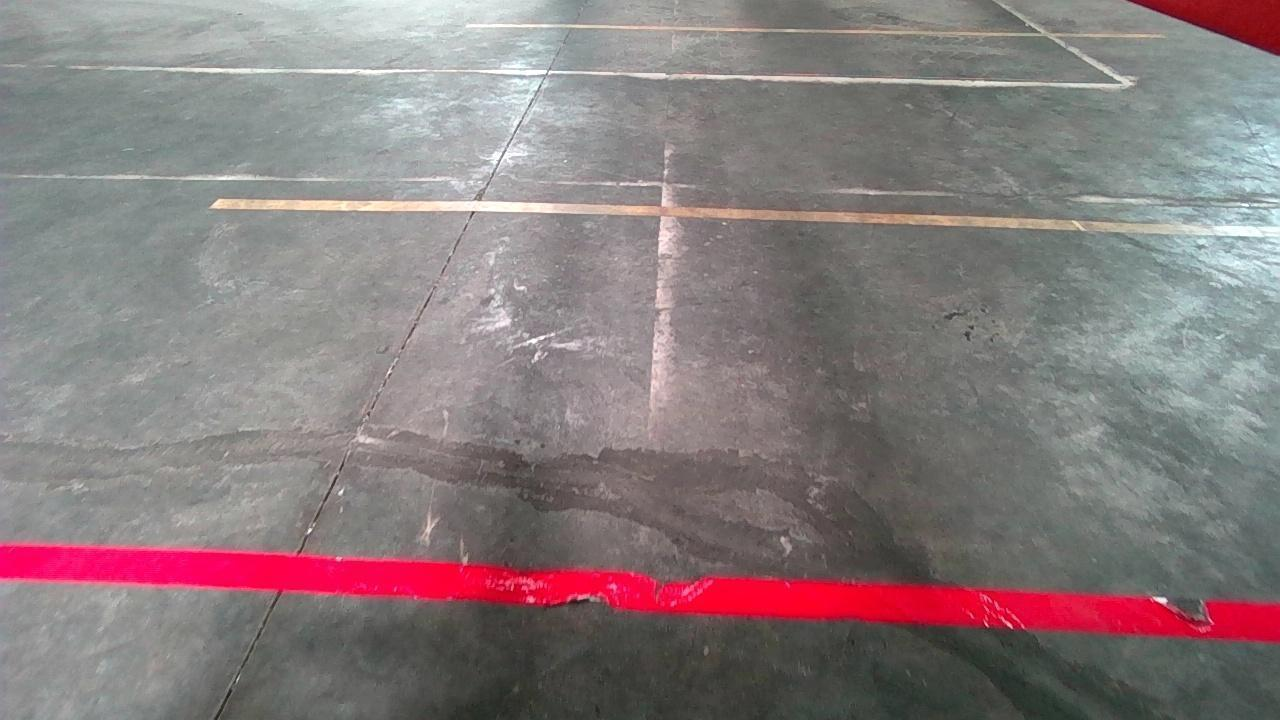red_line: (0, 539, 1280, 641)
yellow_line: (205, 195, 1280, 237)
